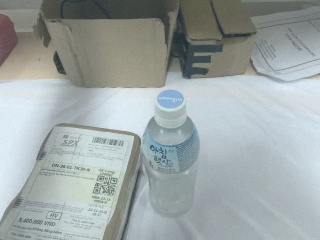bottle: (139, 88, 204, 218)
box: (1, 121, 149, 240), (38, 1, 176, 90), (176, 1, 257, 79)
